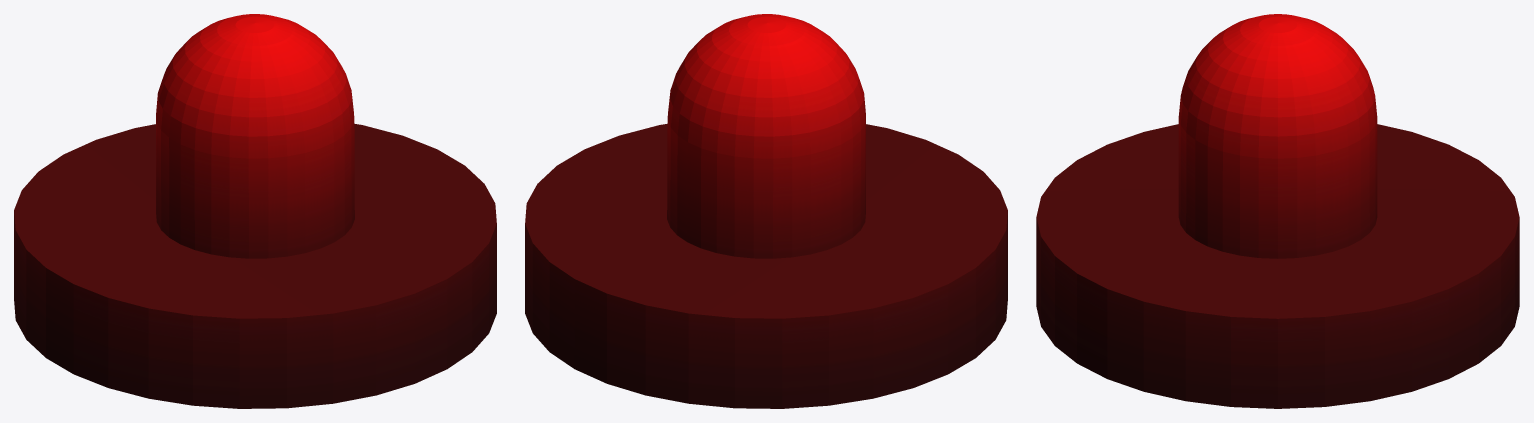
File: hockeycirclepaddle.obj
3 renders of one model, left to right at view 1: azimuth 30°, elevation 25°; view 2: azimuth 150°, elevation 25°; view 3: azimuth 270°, elevation 25°, orthographic.
Visible parts, largest first — view 1: Cylinder.001_Cylinder.007; view 2: Cylinder.001_Cylinder.007; view 3: Cylinder.001_Cylinder.007.
Part boxes in pixels (x1=…): Cylinder.001_Cylinder.007: x1=14, y1=14, x2=496, y2=408; Cylinder.001_Cylinder.007: x1=525, y1=14, x2=1007, y2=408; Cylinder.001_Cylinder.007: x1=1036, y1=14, x2=1519, y2=408.
Bounding box in the file's own units: 2 × 1.29 × 2.
